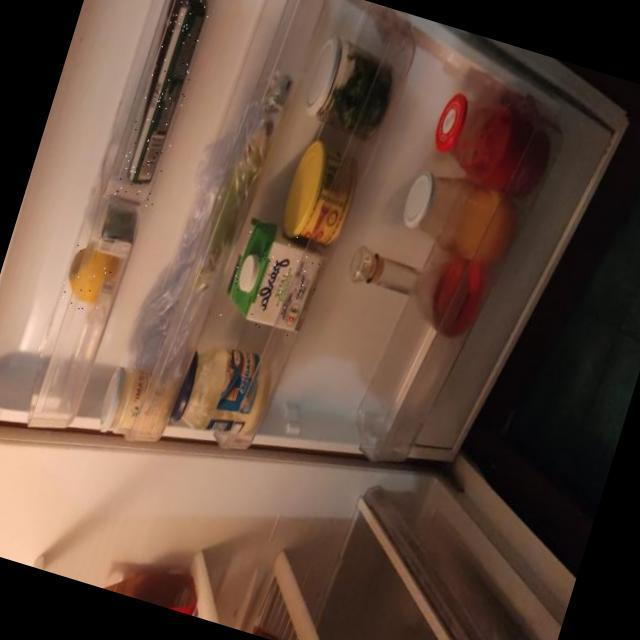Mantequilla: (111, 0, 222, 209)
